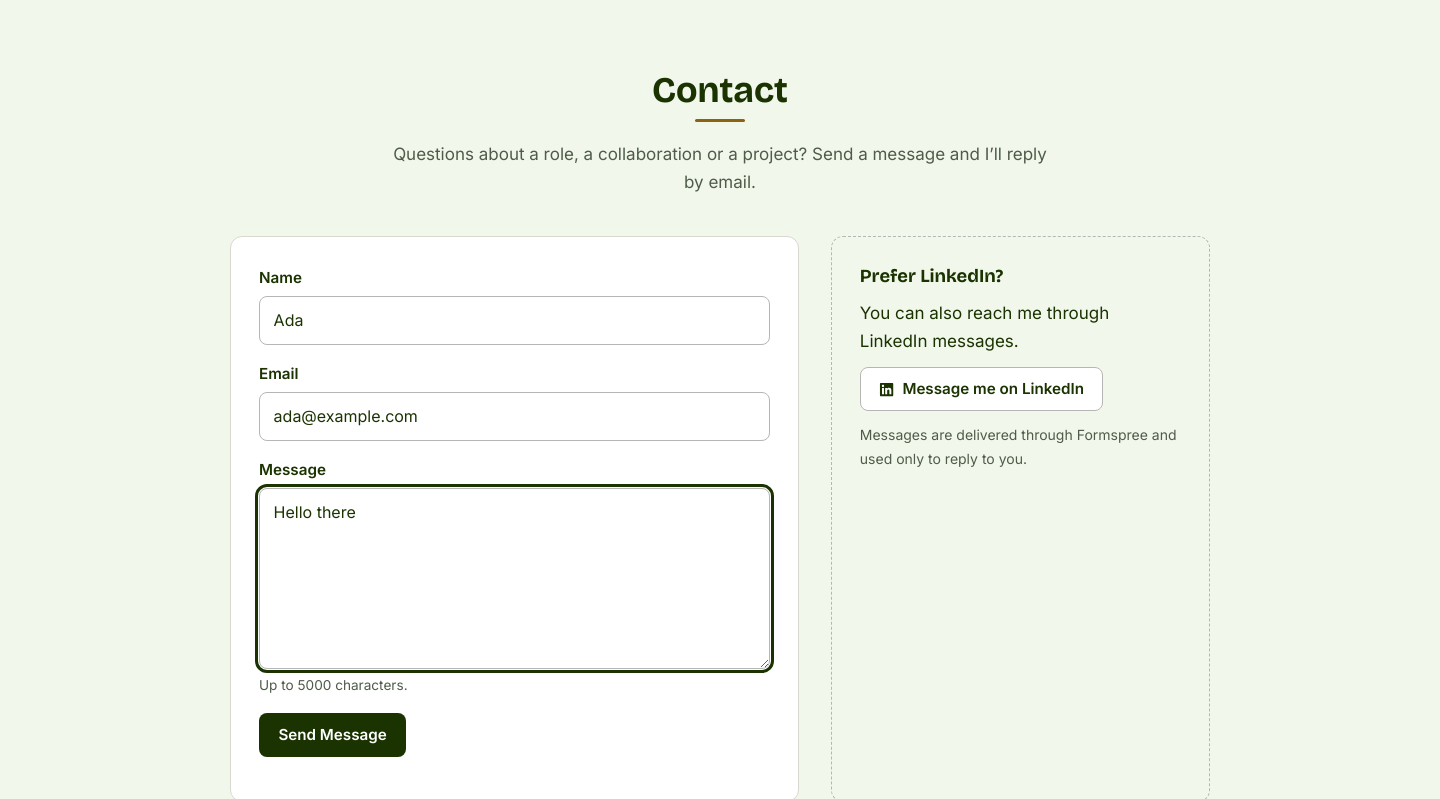
it: Contact form › silently drops submissions that fill the honeypot
Earlier steps of the test are not shown.
Click the button "Send Message" at (333, 735), box [259,713,406,757]
(page scrolled)
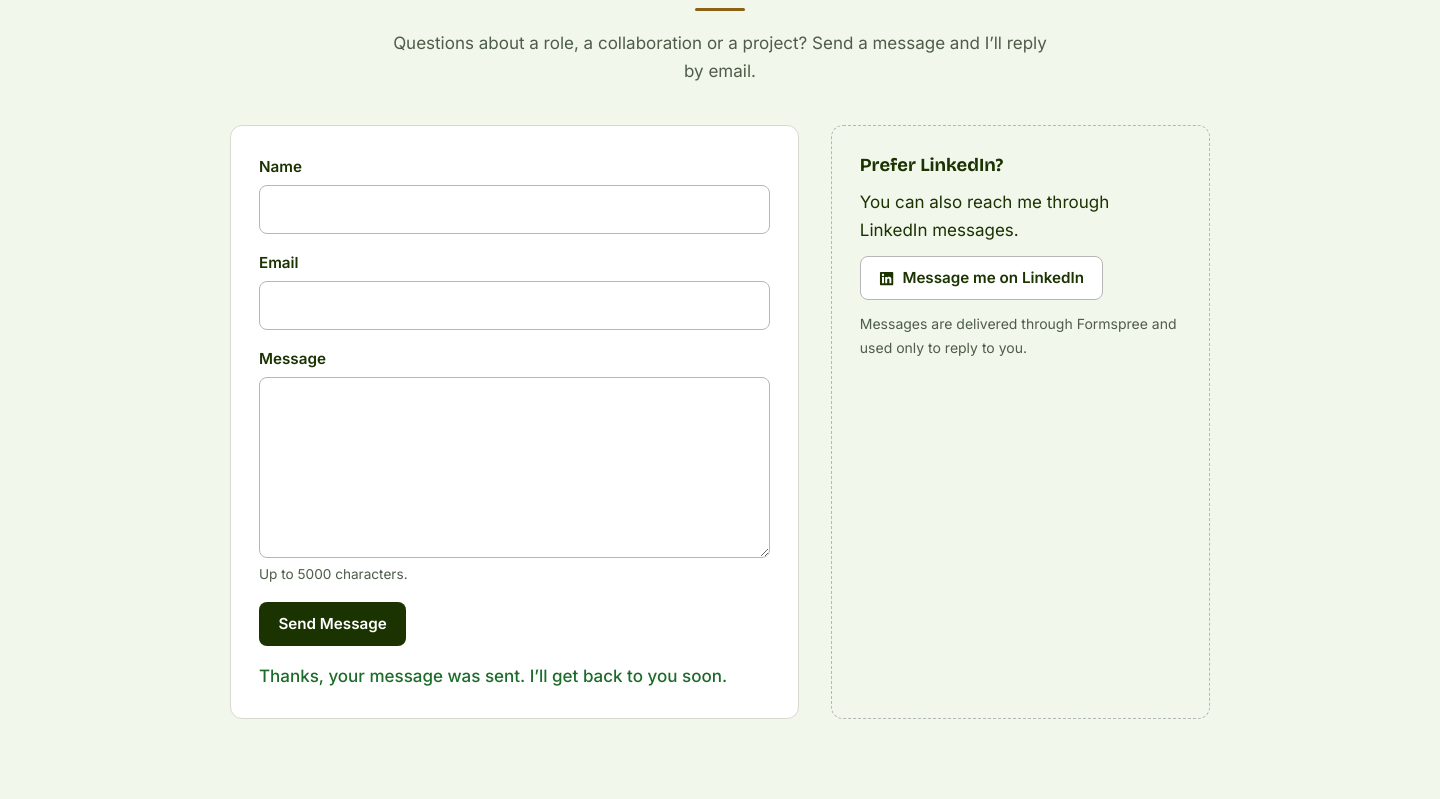
Expected: the message shows "message was sent", [259,666,727,686]
